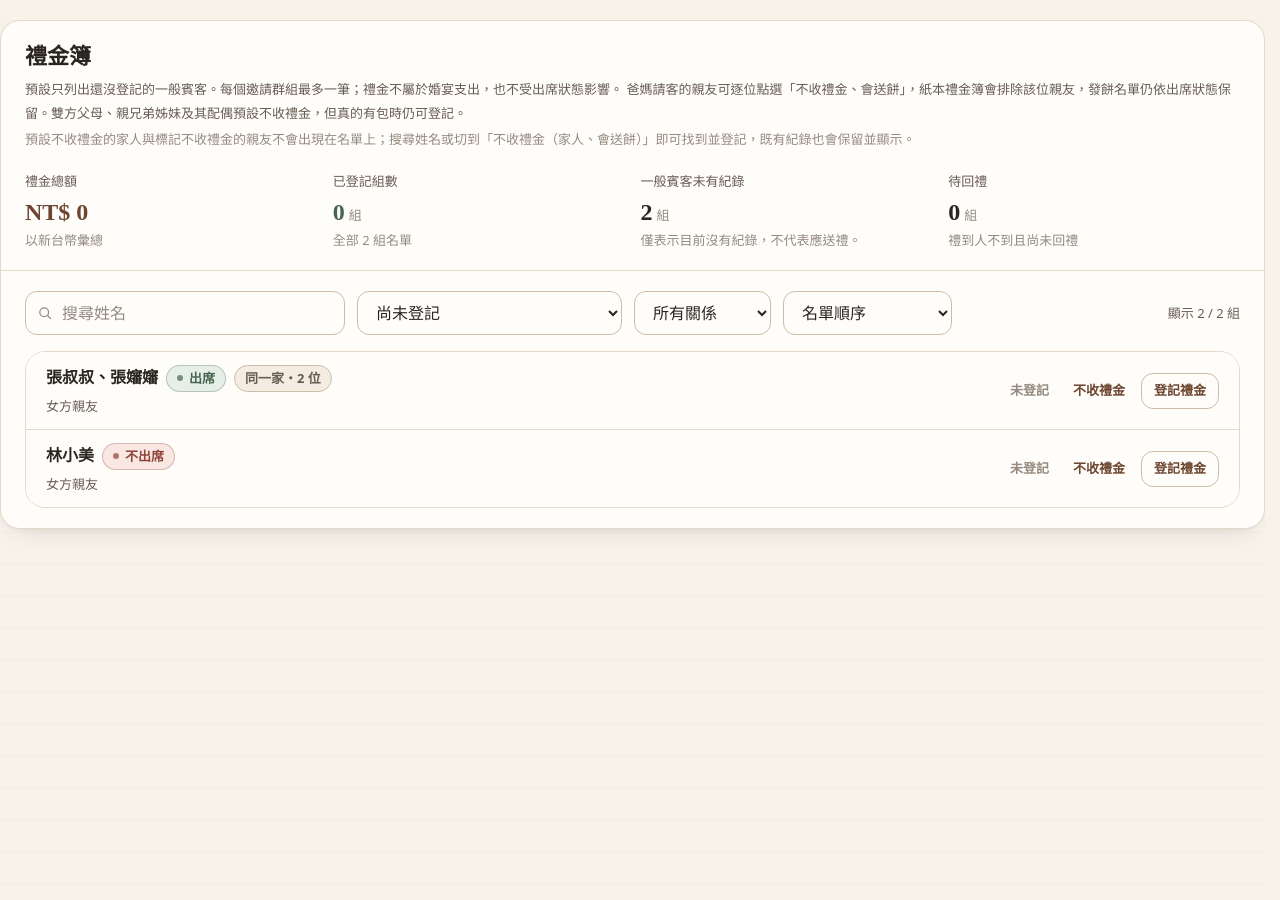
Test case: WeddingGiftBook › lists a cake household as one gift row and records one envelope for the family
This screenshot has width=1280, height=900.
Select "全部（不含不收禮金）" in the dropdown named "禮金登記狀態篩選". click: {"x": 490, "y": 314}
box: [357, 292, 622, 336]
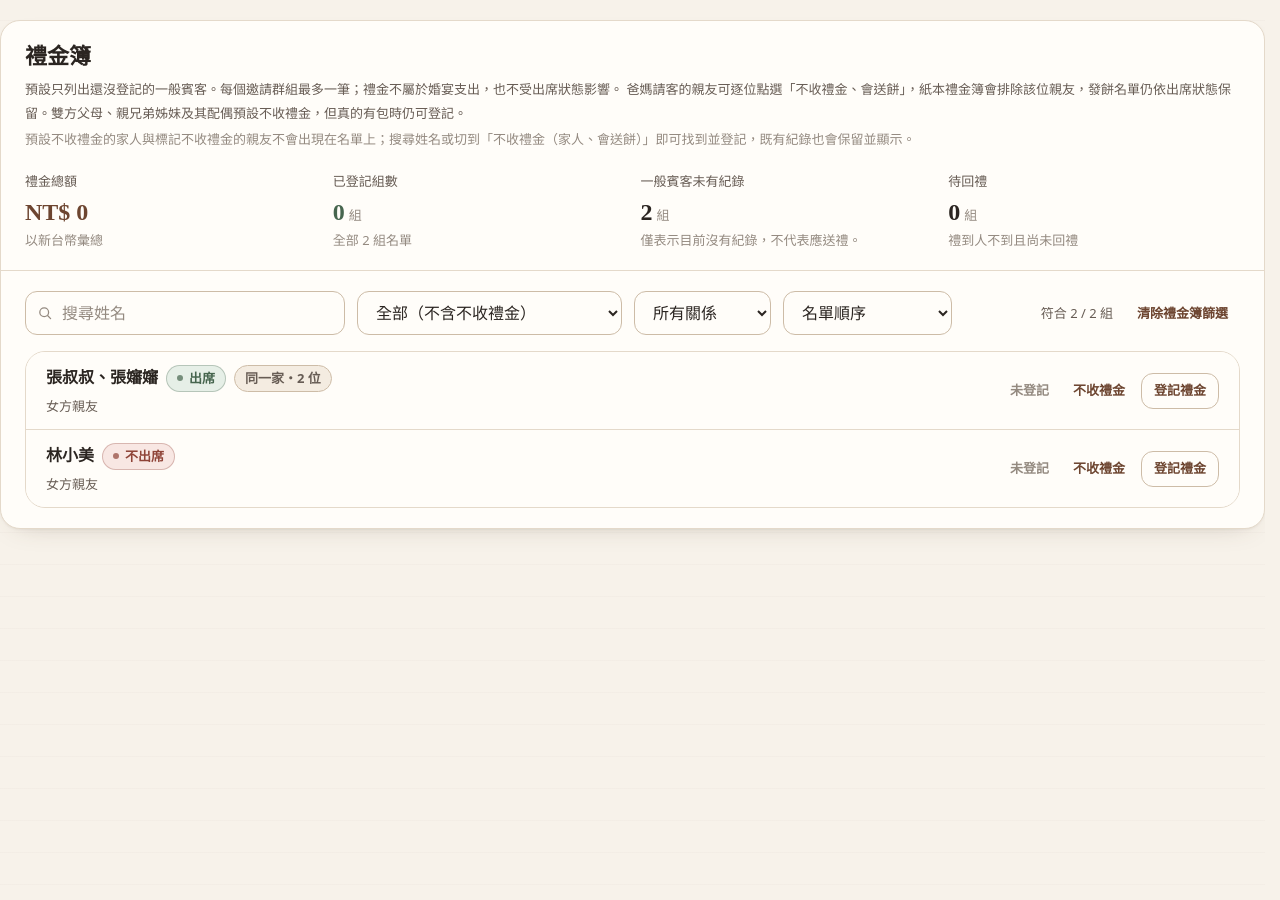
Expected: the heading "張叔叔、張嬸嬸" is shown, [46, 364, 158, 392]
Result: the text "符合 2 / 2 組" is shown at [1041, 303, 1113, 324]
Type "嬸嬸" into the search field named "搜尋禮金簿名單". click: {"x": 185, "y": 314}
box: [25, 292, 345, 336]
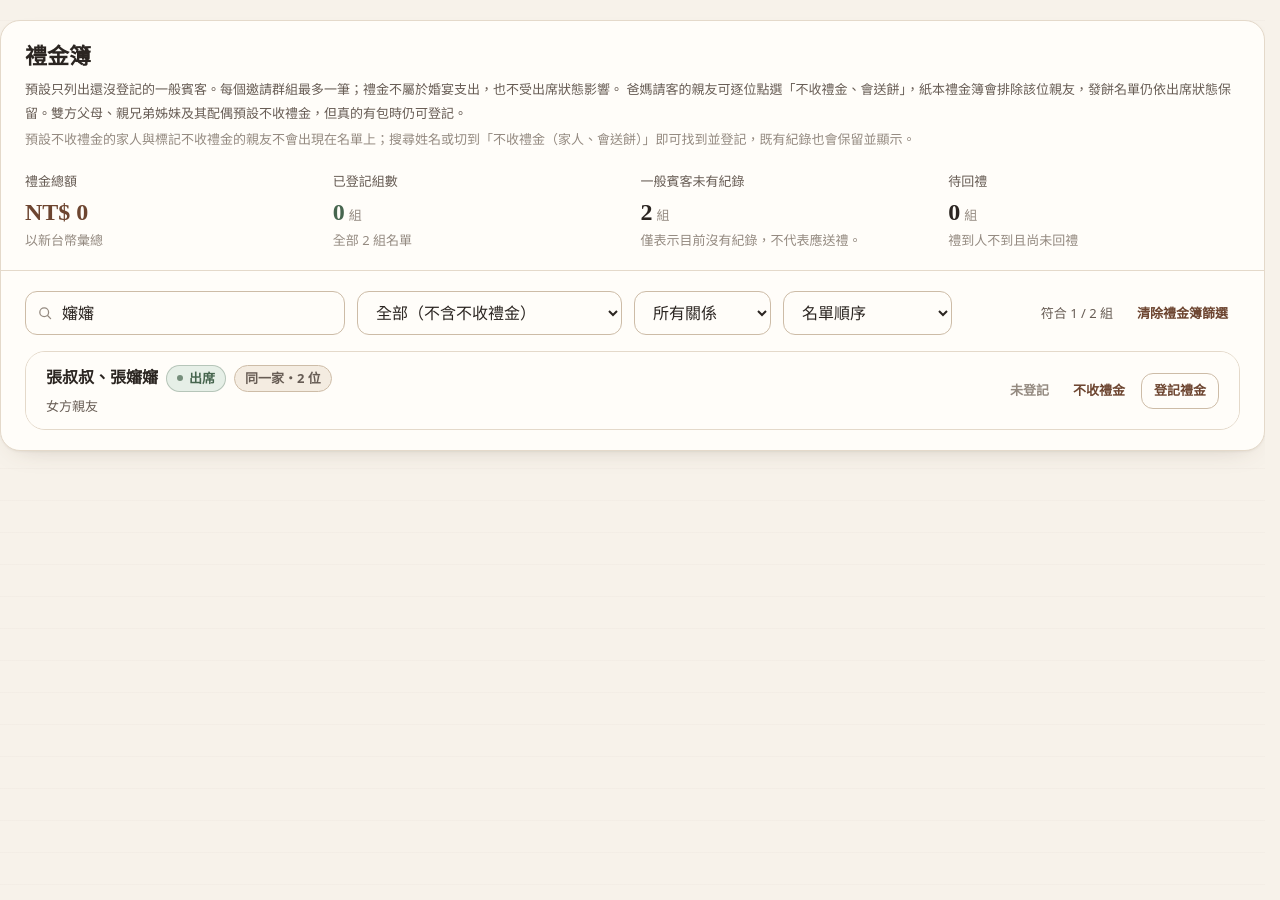
Expected: the heading "張叔叔、張嬸嬸" is shown, [46, 364, 158, 392]
Click the button with aria-label "登記 張叔叔、張嬸嬸 的禮金". click: {"x": 1180, "y": 391}
box: [1141, 373, 1219, 409]
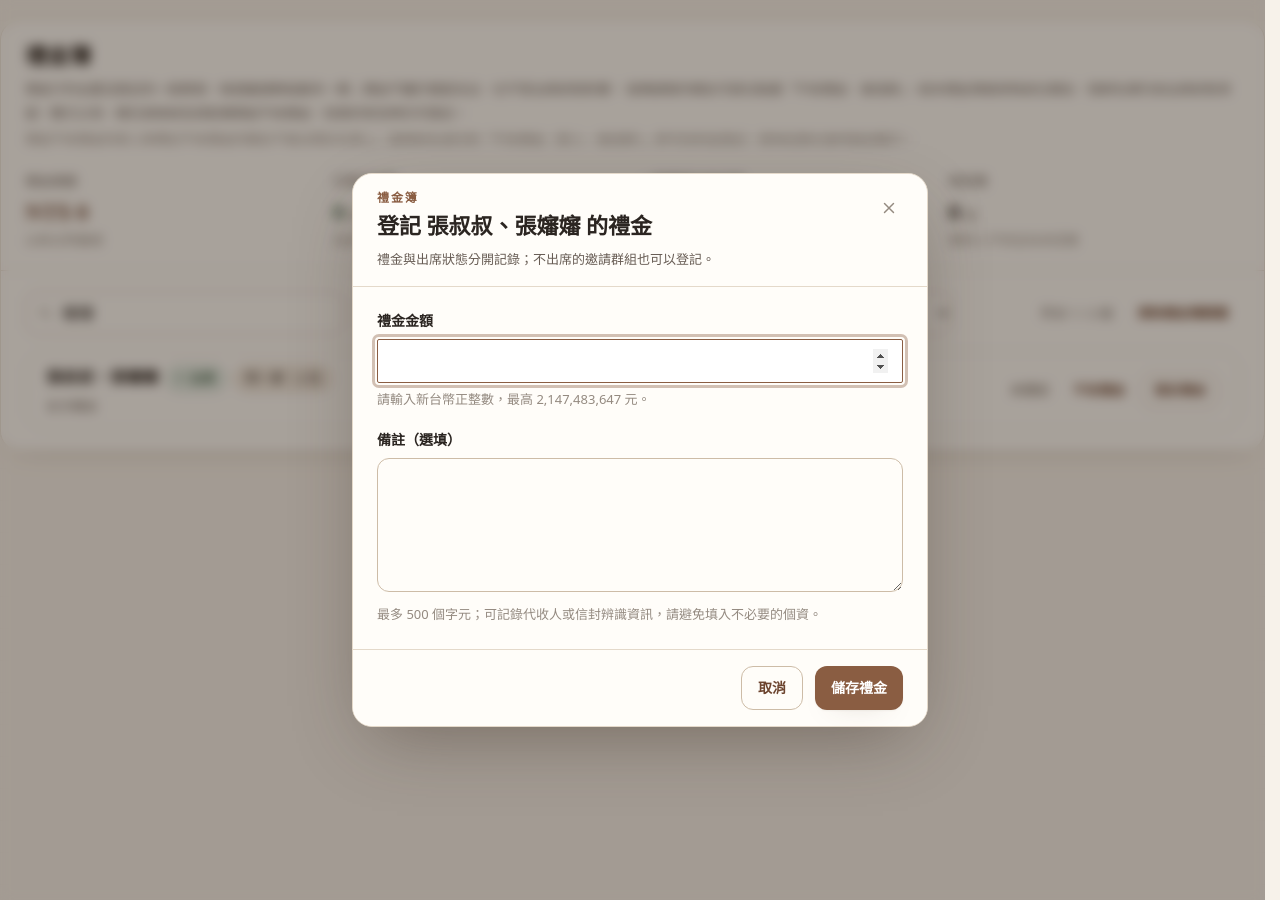
Type "6600" into the number field labelled "禮金金額". click: {"x": 640, "y": 361}
box: [377, 339, 903, 383]
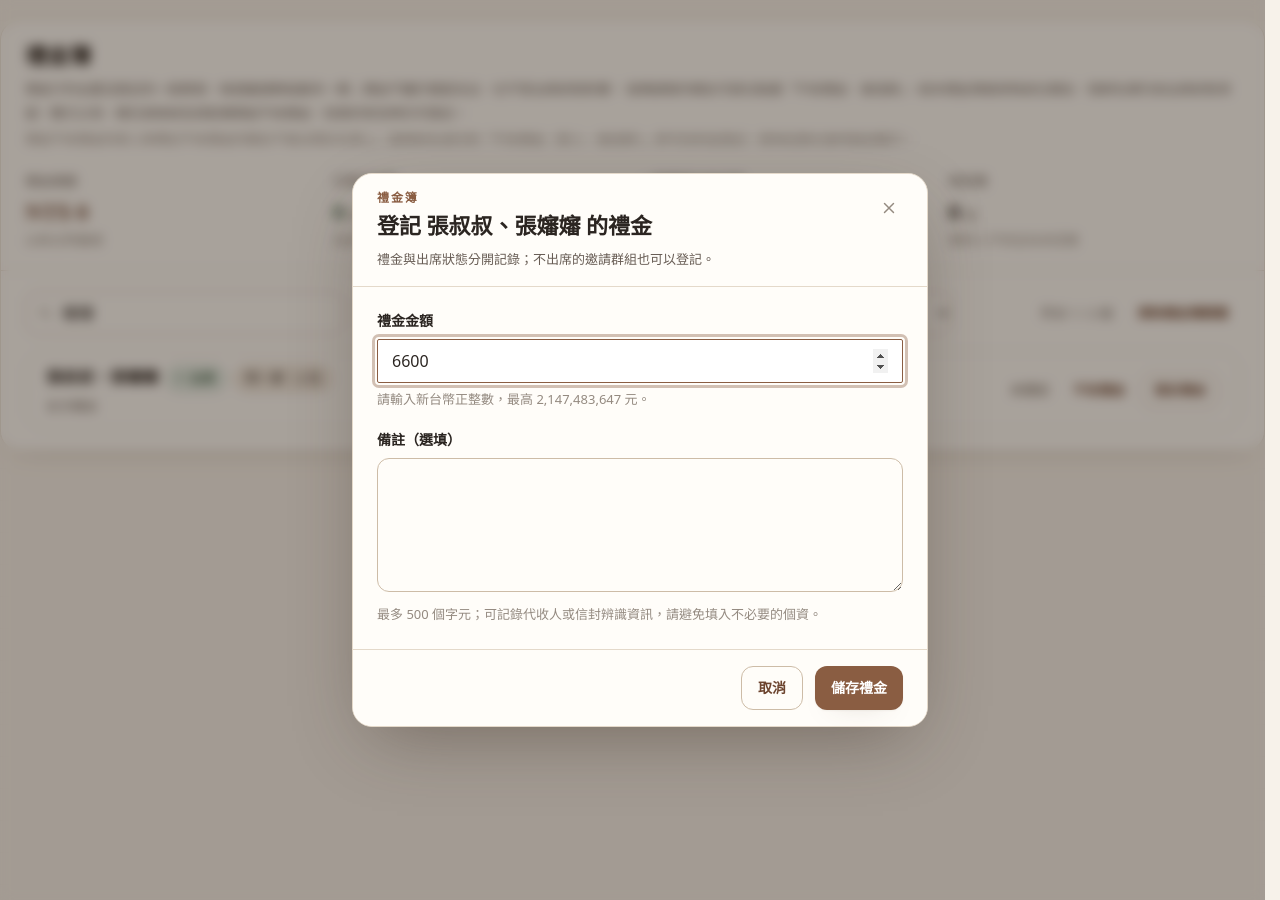
Click the button "儲存禮金". click: {"x": 859, "y": 688}
box: [815, 666, 903, 710]
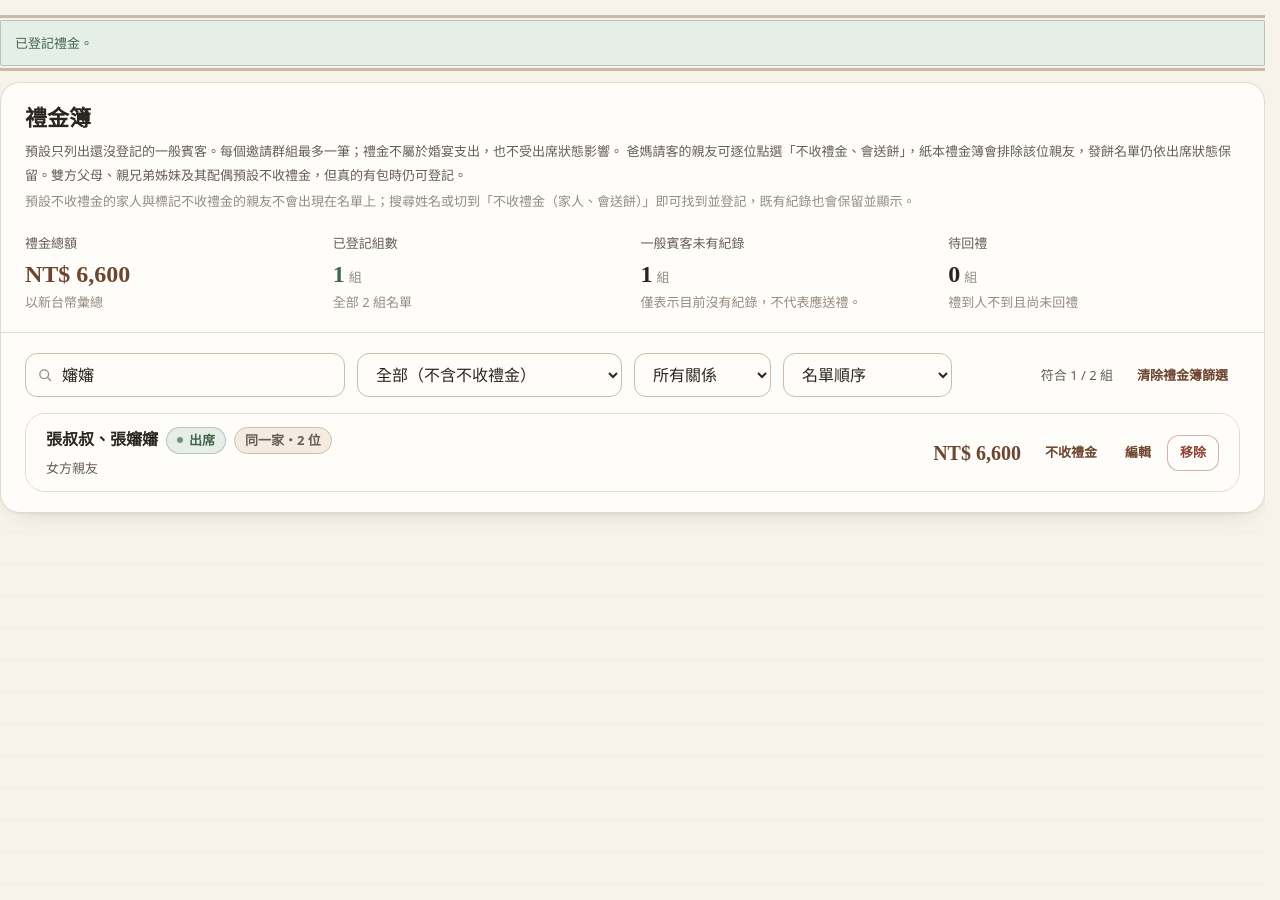
Result: the button with aria-label "編輯 張叔叔、張嬸嬸 的禮金" is shown at [1113, 435, 1163, 471]
Result: the heading "登記 張" is gone
